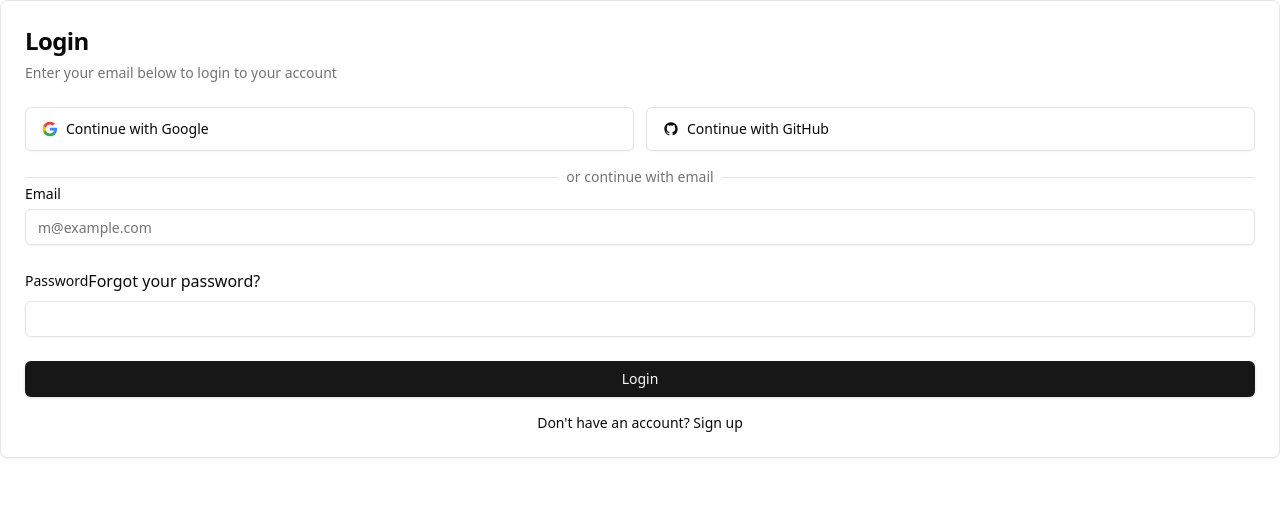
LoginForm › shows error message on login failure
The image size is (1280, 519).
Type "wrong@example.com" into the field labelled "Email" at (640, 227), box [25, 209, 1255, 245]
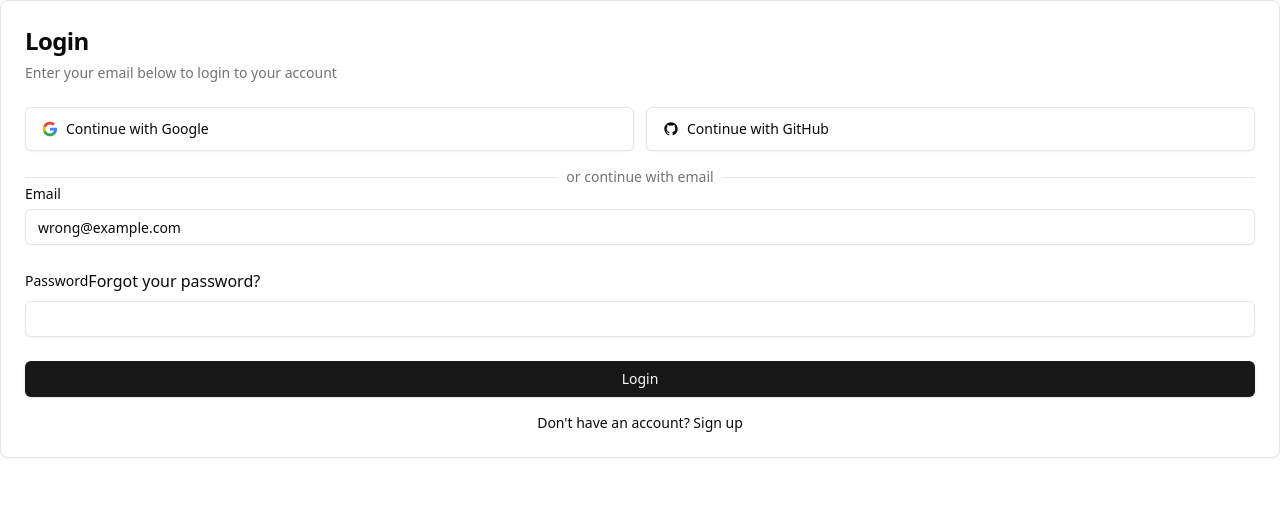
Type "wrongpassword" into the password field labelled "Password" at (640, 319), box [25, 301, 1255, 337]
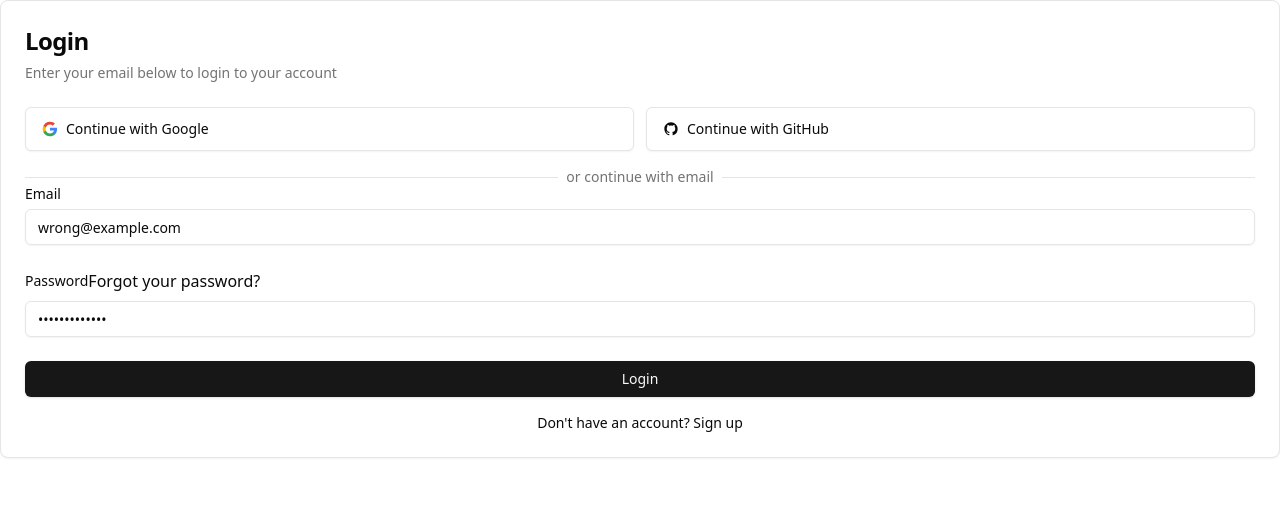
Click the button "Login" at (640, 379), box [25, 361, 1255, 397]
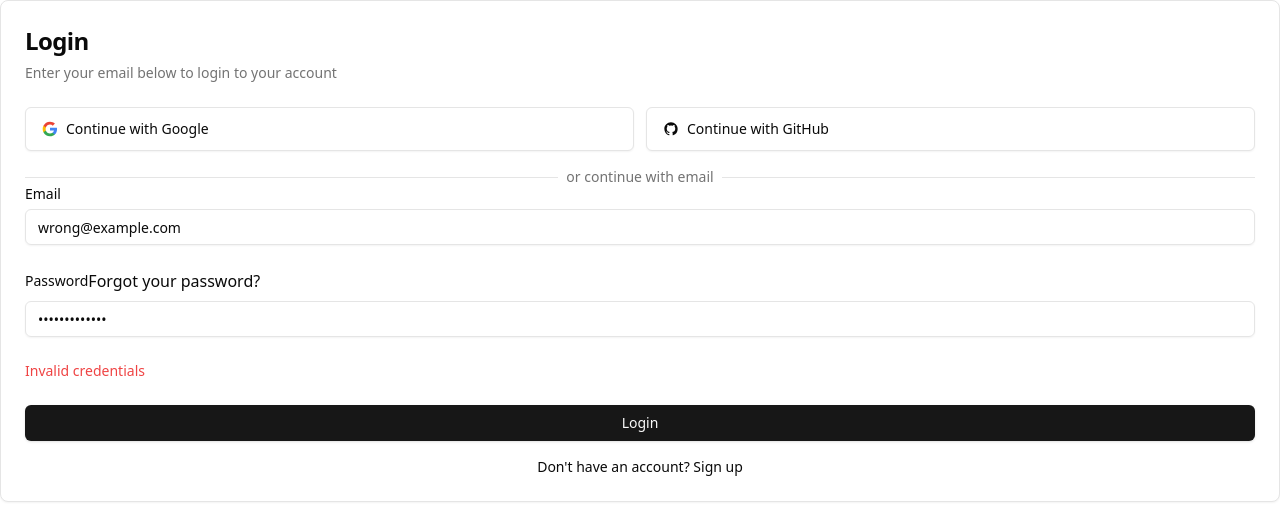
Check: the text "Invalid credentials" is shown, box [25, 361, 145, 380]
